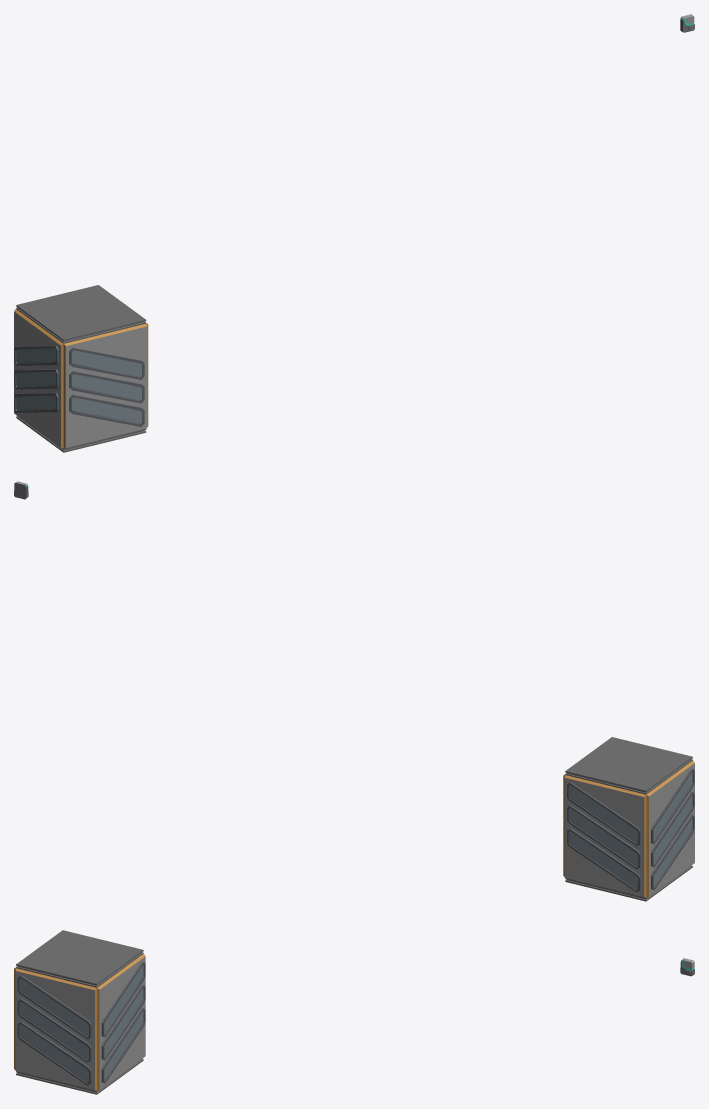
Rendered from SM_Bld_Section_Window_04.fbx.
3 renders of one model, top to bottom at view 1: azimuth 30°, elevation 25°; view 2: azimuth 150°, elevation 25°; view 3: azimuth 330°, elevation 25°, orthographic.
Visible parts, largest first — view 1: SM_Bld_Section_Window_04; view 2: SM_Bld_Section_Window_04; view 3: SM_Bld_Section_Window_04.
Part boxes in pixels (<box>): SM_Bld_Section_Window_04: <box>14,285,148,452</box>; SM_Bld_Section_Window_04: <box>563,737,694,901</box>; SM_Bld_Section_Window_04: <box>14,930,145,1094</box>.
Size of the model in its own units: 26.06 by 9.54 by 3.56.
